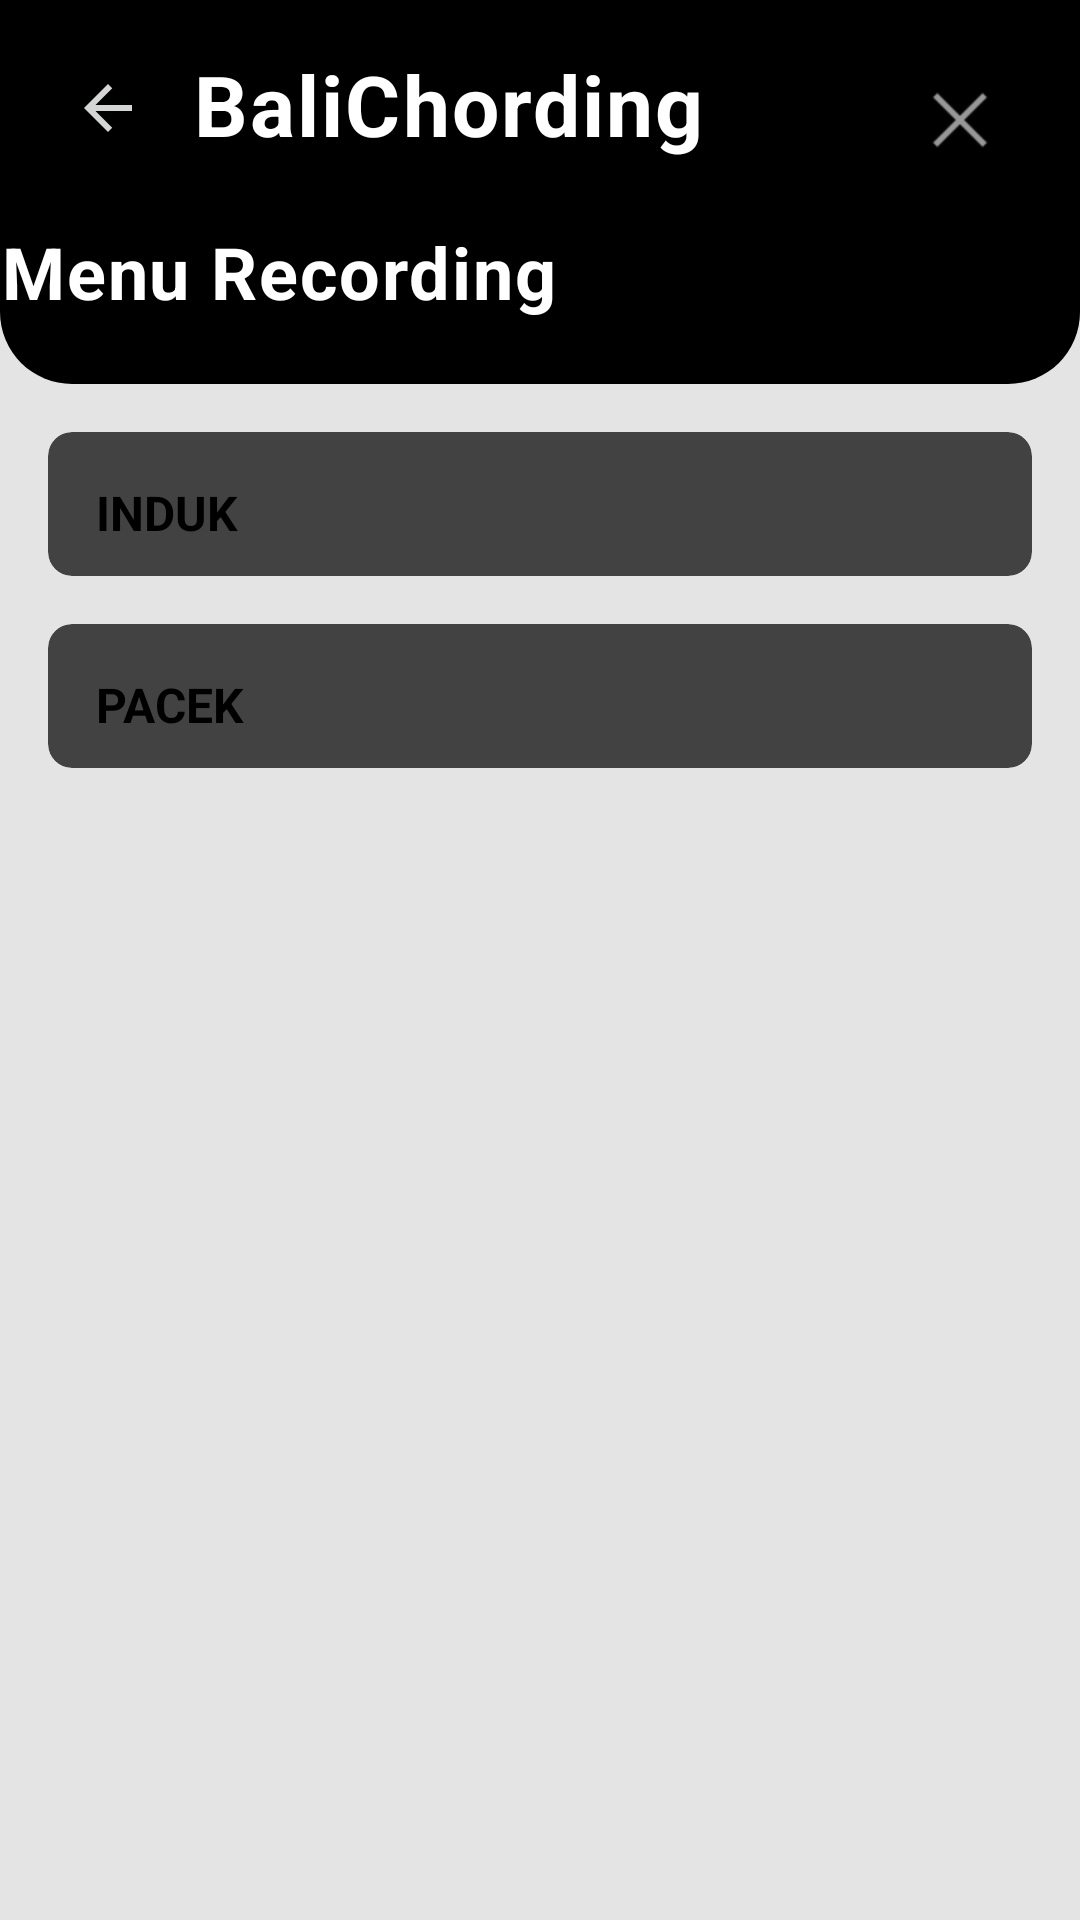

Icons on this 1080x1920 Android screen, each with the point to tap as point (x, y):
arrow back: point (108, 108)
close clear cancel: point (960, 120)
